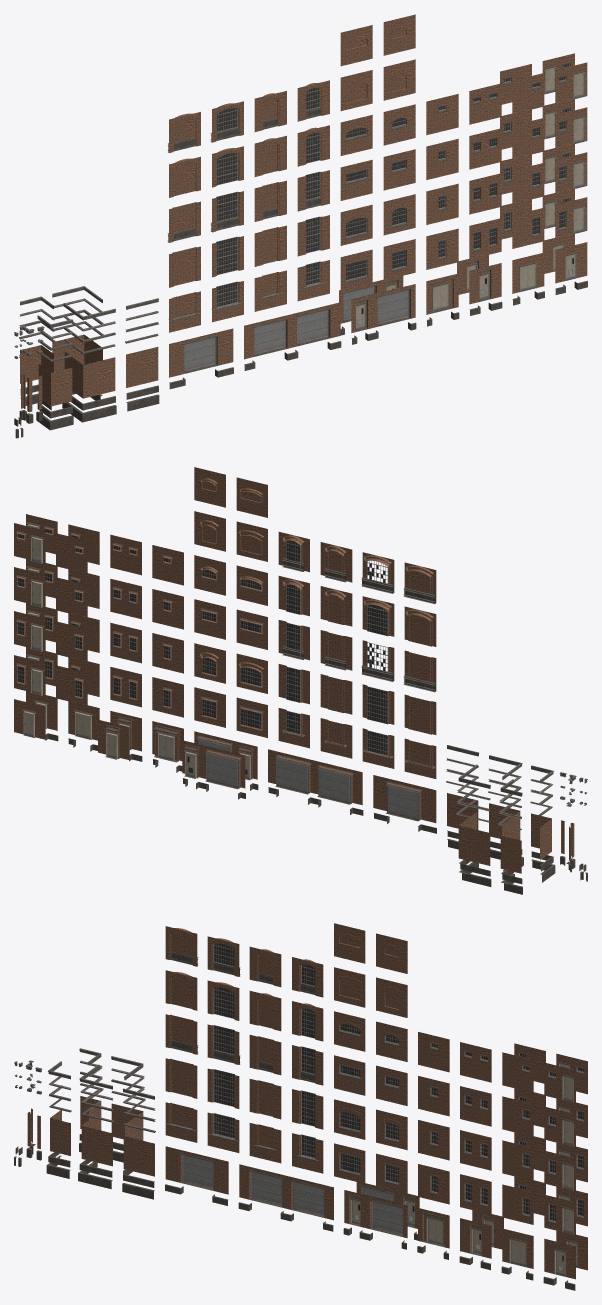
File: modular_factory_facade_2k.gltf
The picture shows the model from 3 angles, top to bottom: view 1: azimuth 30°, elevation 25°; view 2: azimuth 150°, elevation 25°; view 3: azimuth 330°, elevation 25°; orthographic projection.
Parts seen in each view (by area): view 1: door_garage_double_01, wall_standard_corner_large_01, wall_door_garage_double_01, door_garage_door_01, wall_door_garage_centered_01, wall_window_centered_medium_05, wall_window_tall_small_09, wall_standard_standard_01, wall_window_centered_large_05, wall_window_centered_medium_06, wall_window_tall_small_07, wall_window_centered_large_06 (+57 smaller); view 2: door_garage_double_01, door_garage_door_02, wall_door_garage_double_01, wall_door_garage_centered_01, wall_standard_corner_large_02, wall_window_tall_large_09, wall_window_tall_small_09, wall_window_tall_large_07, wall_window_tall_small_07, wall_window_tall_small_06, wall_window_tall_large_06, wall_window_centered_medium_06 (+62 smaller); view 3: door_garage_double_01, wall_door_garage_double_01, door_garage_door_01, wall_door_garage_centered_01, wall_standard_corner_large_01, wall_window_tall_large_09, wall_window_tall_large_07, wall_window_tall_small_07, wall_window_tall_small_09, wall_window_tall_small_06, wall_window_centered_large_05, wall_window_tall_large_06 (+67 smaller).
Part boxes in pixels (left/top/right/bottom): door_garage_double_01: left=253, top=307, right=331, bottom=356; wall_standard_corner_large_01: left=64, top=352, right=115, bottom=398; wall_door_garage_double_01: left=244, top=302, right=340, bottom=359; door_garage_door_01: left=355, top=288, right=412, bottom=331; wall_door_garage_centered_01: left=169, top=328, right=233, bottom=377; wall_window_centered_medium_05: left=383, top=59, right=415, bottom=100; wall_window_tall_small_09: left=254, top=135, right=286, bottom=176; wall_standard_standard_01: left=126, top=347, right=158, bottom=387; wall_window_centered_large_05: left=340, top=70, right=372, bottom=110; wall_window_centered_medium_06: left=383, top=14, right=415, bottom=55; wall_window_tall_small_07: left=254, top=225, right=286, bottom=266; wall_window_centered_large_06: left=340, top=25, right=372, bottom=66; door_garage_double_01: left=275, top=754, right=353, bottom=804; door_garage_door_02: left=184, top=744, right=241, bottom=789; wall_door_garage_double_01: left=268, top=749, right=362, bottom=805; wall_door_garage_centered_01: left=373, top=775, right=436, bottom=822; wall_standard_corner_large_02: left=458, top=812, right=490, bottom=865; wall_window_tall_large_09: left=404, top=606, right=436, bottom=646; wall_window_tall_small_09: left=320, top=586, right=352, bottom=626; wall_window_tall_large_07: left=404, top=694, right=436, bottom=734; wall_window_tall_small_07: left=320, top=674, right=352, bottom=714; wall_window_tall_small_06: left=320, top=718, right=352, bottom=758; wall_window_tall_large_06: left=404, top=738, right=436, bottom=778; wall_window_centered_medium_06: left=194, top=467, right=225, bottom=507; door_garage_double_01: left=248, top=1169, right=324, bottom=1217; wall_door_garage_double_01: left=239, top=1164, right=333, bottom=1220; door_garage_door_01: left=348, top=1194, right=403, bottom=1236; wall_door_garage_centered_01: left=165, top=1146, right=228, bottom=1194; wall_standard_corner_large_01: left=81, top=1112, right=112, bottom=1166; wall_window_tall_large_09: left=165, top=970, right=197, bottom=1010; wall_window_tall_large_07: left=165, top=1058, right=197, bottom=1098; wall_window_tall_small_07: left=249, top=1079, right=281, bottom=1119; wall_window_tall_small_09: left=249, top=991, right=281, bottom=1031; wall_window_tall_small_06: left=249, top=1123, right=281, bottom=1163; wall_window_centered_large_05: left=334, top=967, right=365, bottom=1007; wall_window_tall_large_06: left=165, top=1102, right=197, bottom=1142.
Bounding box in the file's own units: 53.33 × 29 × 5.36.
Materials: 6 (6 with a texture image).
